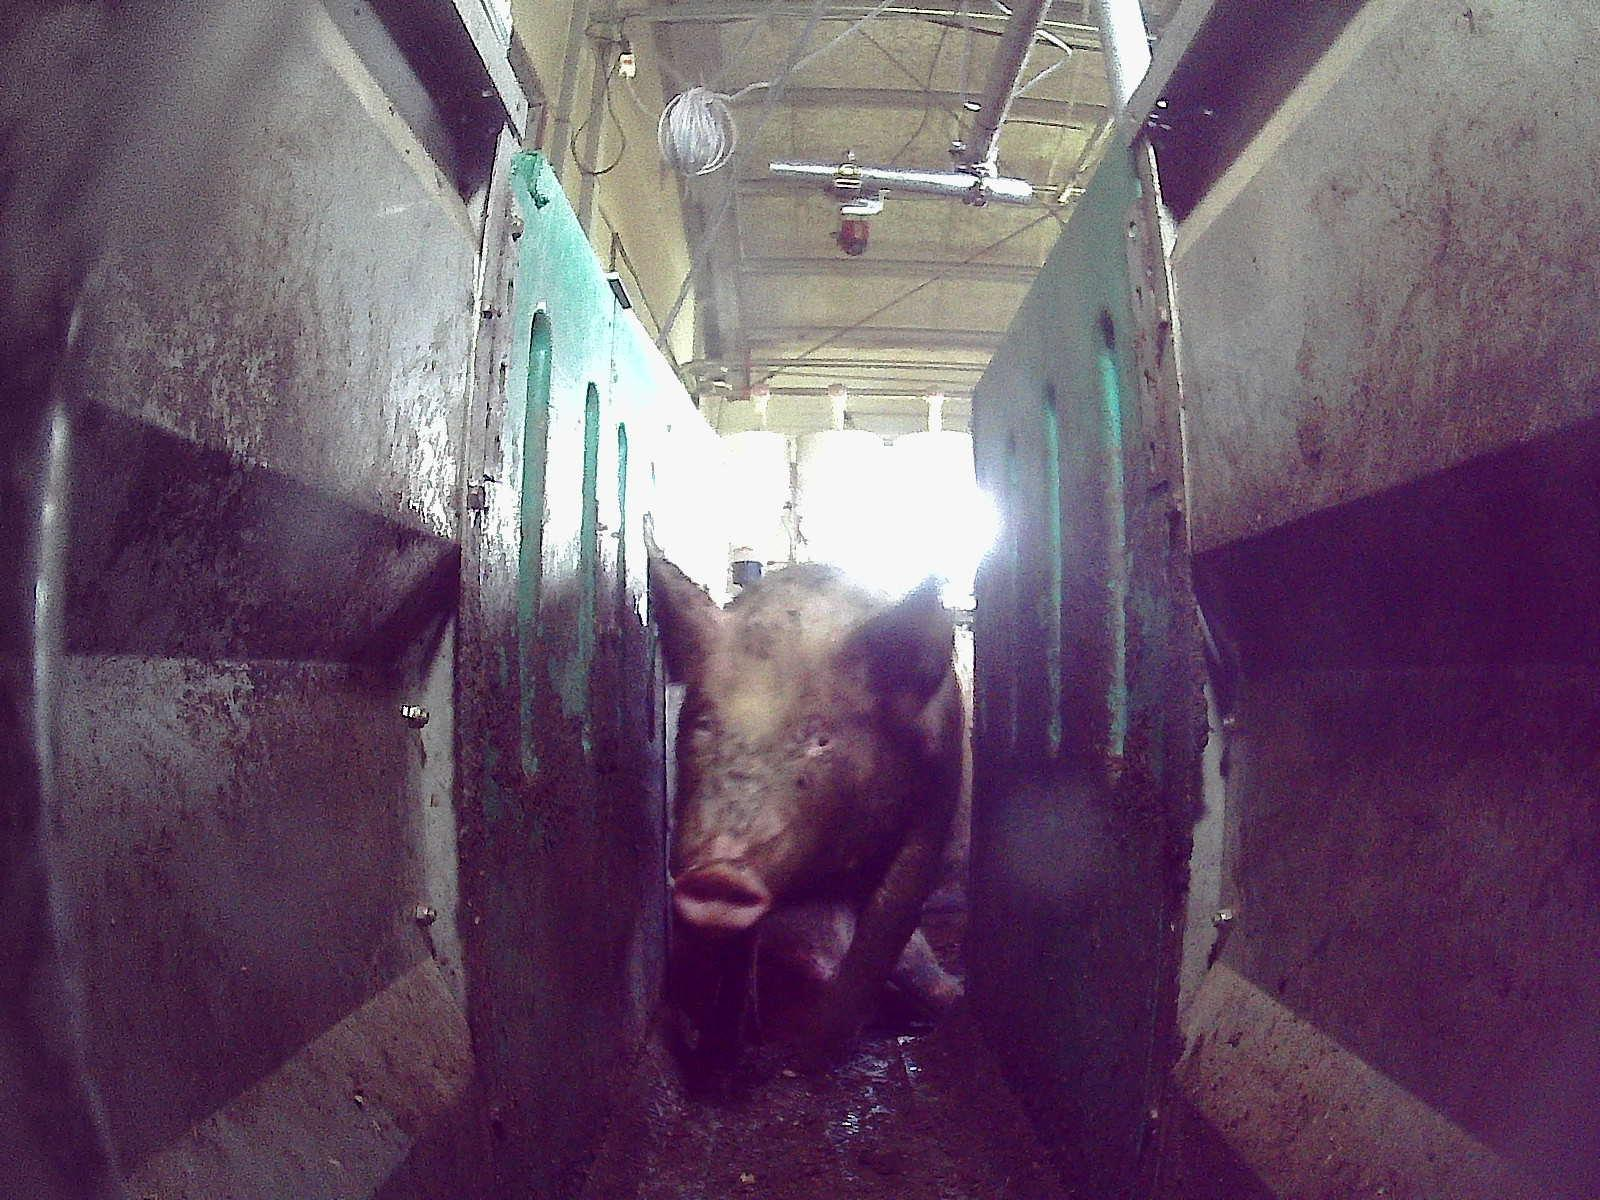Face: (674, 637, 869, 932)
